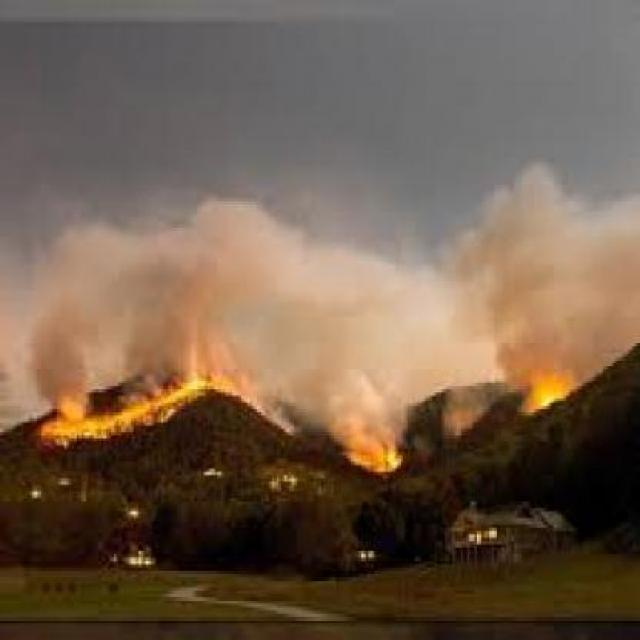Fire: (9, 337, 288, 474), (336, 372, 459, 499)
Smoke: (0, 156, 640, 382)
